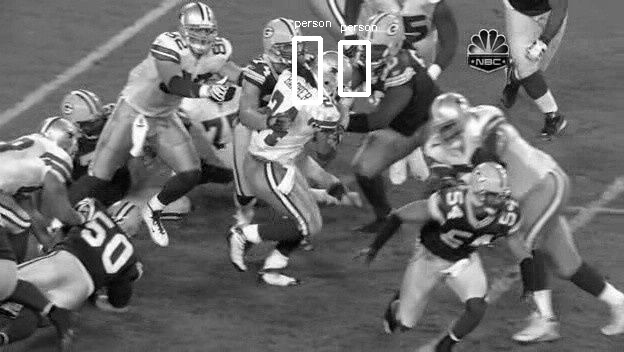person: (320, 54, 355, 99), (319, 54, 354, 99), (321, 54, 356, 99), (320, 53, 355, 98), (320, 55, 355, 100)
target_negative: (458, 39, 605, 266), (178, 165, 487, 227), (546, 124, 595, 336), (75, 284, 481, 305), (173, 267, 433, 283), (416, 186, 513, 191)
